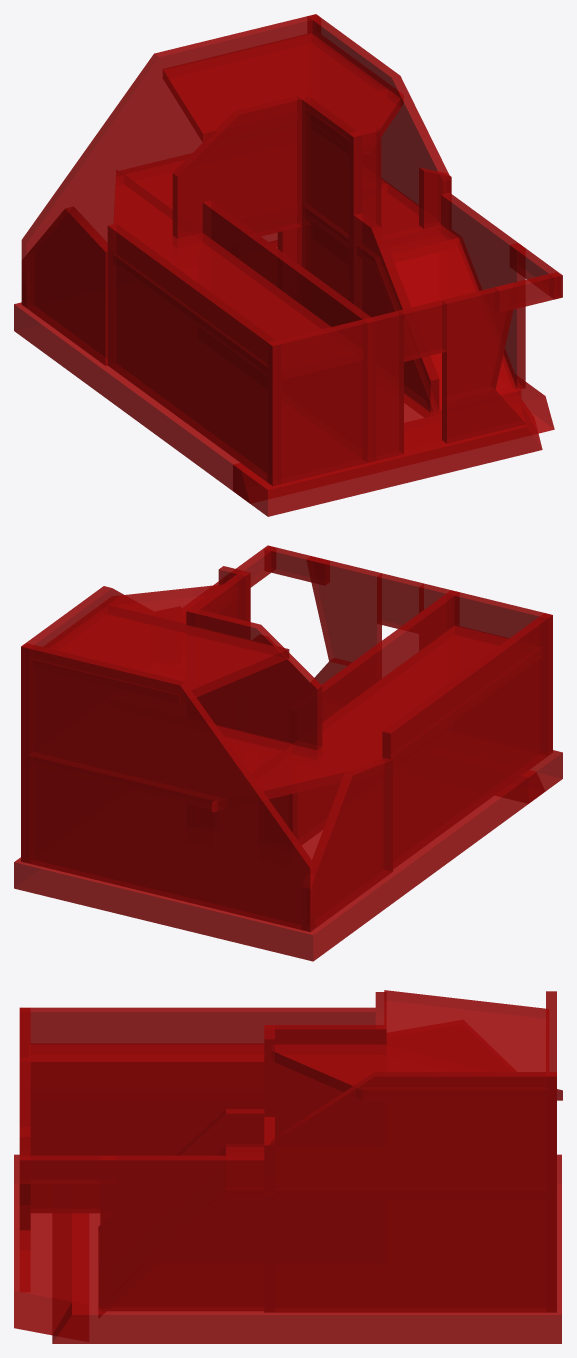
The model's file is SM_Bld_Village_House_01_Destroyed_Collision.fbx.
3 renders of one model, top to bottom at view 1: azimuth 30°, elevation 25°; view 2: azimuth 150°, elevation 25°; view 3: azimuth 270°, elevation 25°, orthographic. The views are drawn at different scales.
Visible parts, largest first — view 1: SM_Bld_Village_House_01_Destroyed_Collision; view 2: SM_Bld_Village_House_01_Destroyed_Collision; view 3: SM_Bld_Village_House_01_Destroyed_Collision.
Part boxes in pixels (box(x1,y1,x2,y2)): SM_Bld_Village_House_01_Destroyed_Collision: box(14, 14, 562, 516); SM_Bld_Village_House_01_Destroyed_Collision: box(14, 545, 562, 961); SM_Bld_Village_House_01_Destroyed_Collision: box(14, 990, 562, 1343).
Bounding box in the file's own units: 874 × 674 × 1265.
